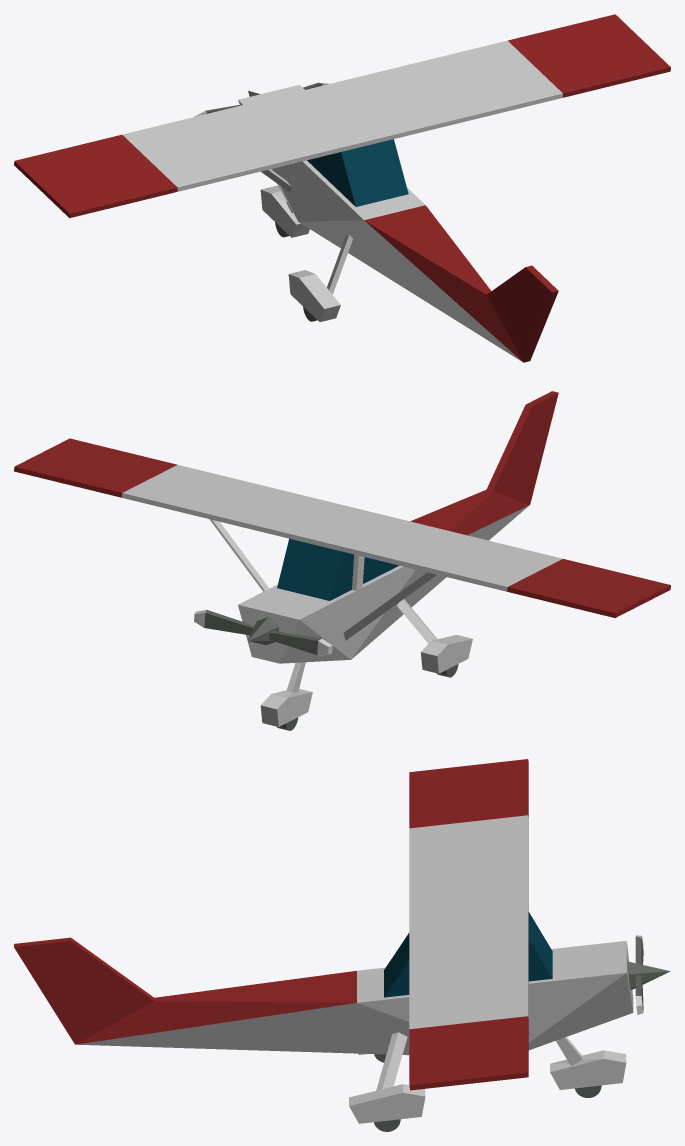
The model's file is TestPlane.obj.
3 views of the same model, one above another, from view 1: azimuth 30°, elevation 25°; view 2: azimuth 150°, elevation 25°; view 3: azimuth 270°, elevation 25° (orthographic). The views are drawn at different scales.
Parts seen in each view (by area): view 1: Korpus_Untitled.007, Cube_3_Untitled.003, Cube_2_Untitled.004; view 2: Korpus_Untitled.007, Rotor_Untitled.006, Cube_3_Untitled.003, Cube_2_Untitled.004; view 3: Korpus_Untitled.007, Cube_1_Untitled.005, Cube_2_Untitled.004, Rotor_Untitled.006.
Boxes of the visible parts, x1,y1,x2,y2 form: Korpus_Untitled.007: (14, 14, 670, 362); Cube_3_Untitled.003: (288, 234, 352, 321); Cube_2_Untitled.004: (260, 185, 309, 237); Korpus_Untitled.007: (14, 391, 670, 663); Rotor_Untitled.006: (194, 609, 332, 655); Cube_3_Untitled.003: (397, 599, 472, 673); Cube_2_Untitled.004: (260, 662, 312, 726); Korpus_Untitled.007: (14, 759, 633, 1090); Cube_1_Untitled.005: (349, 1032, 425, 1123); Cube_2_Untitled.004: (550, 1037, 626, 1089); Rotor_Untitled.006: (627, 935, 670, 1014).
Size of the model in its own units: 2.73 by 0.7295 by 2.42.
